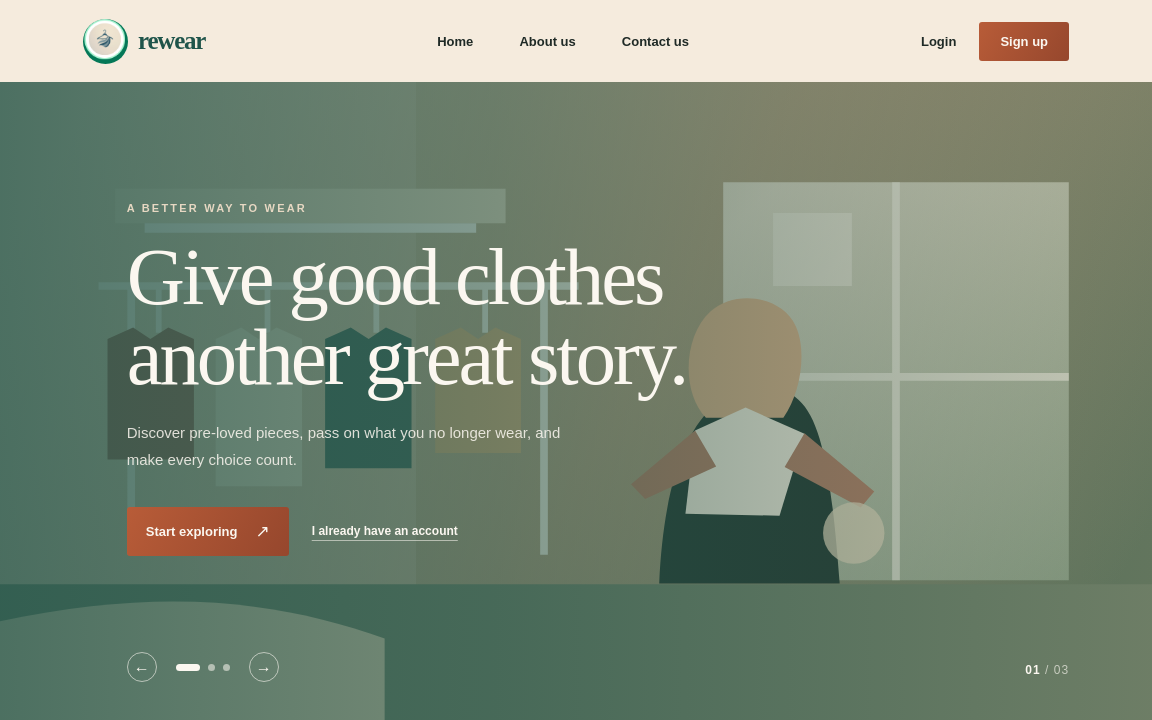
Scenario: WelcomePage › moves between slideshow images using the controls
Click the button named "Next slide" at (264, 667), box [249, 652, 279, 682]
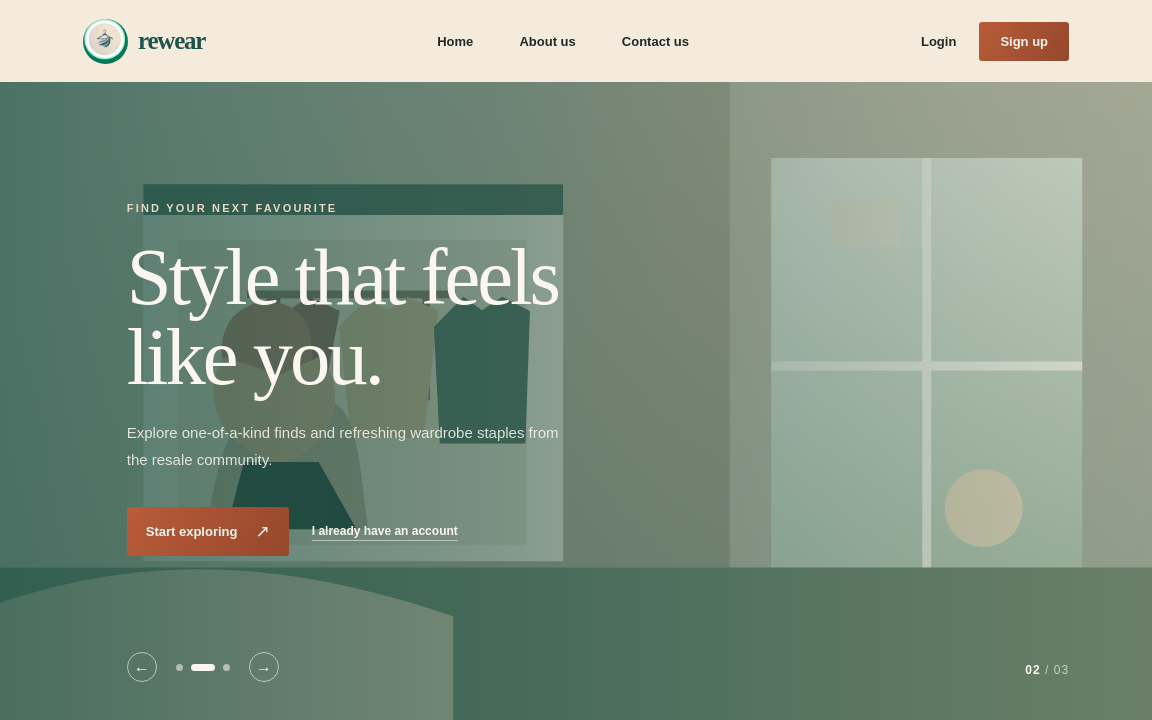
Expected: the heading shows "Style that feels like you", [127, 232, 558, 401]
Click the button named "Previous slide" at (142, 667), box [127, 652, 157, 682]
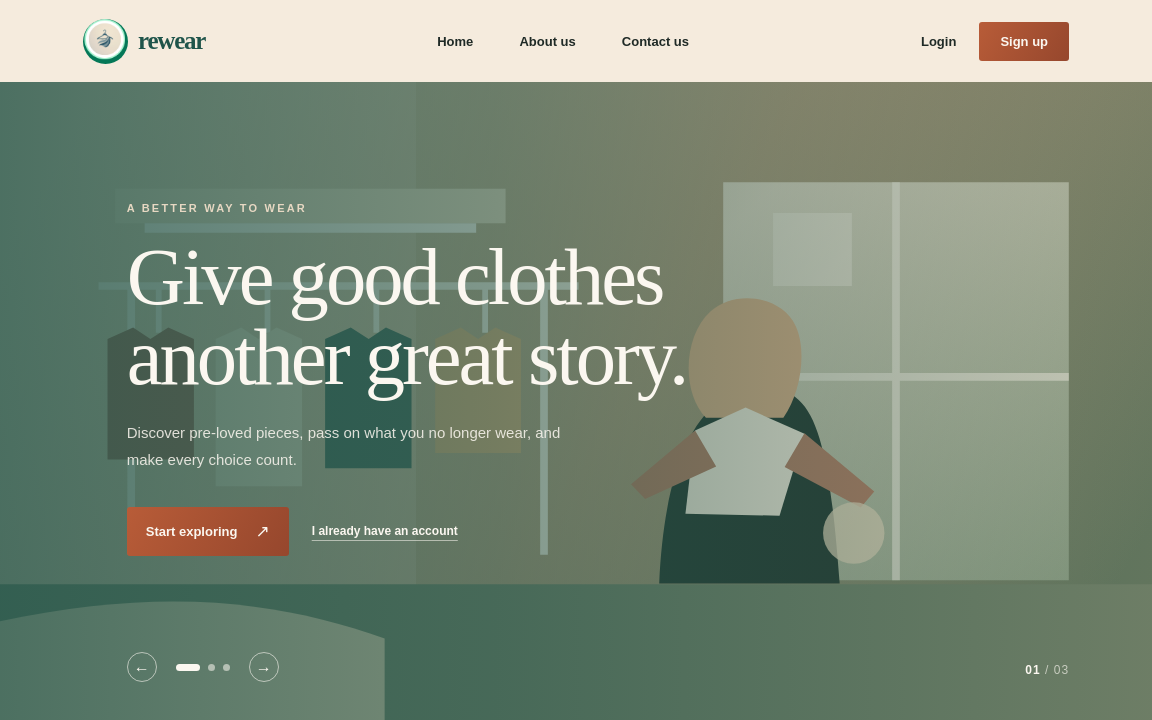
Expected: the heading shows "Give good clothes another great story", [127, 232, 686, 401]
